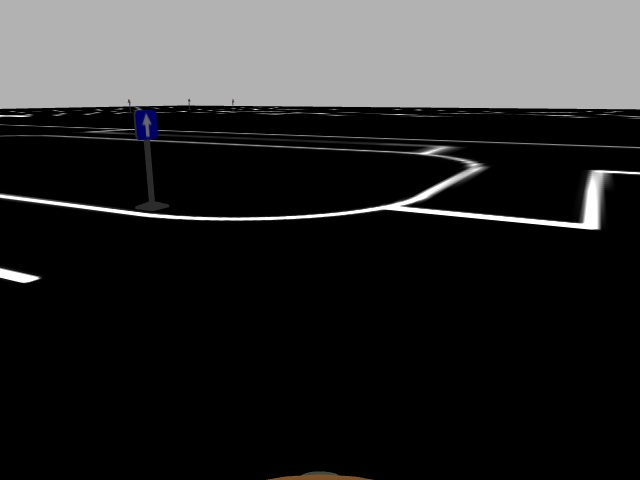oneway: (133, 109, 158, 143)
